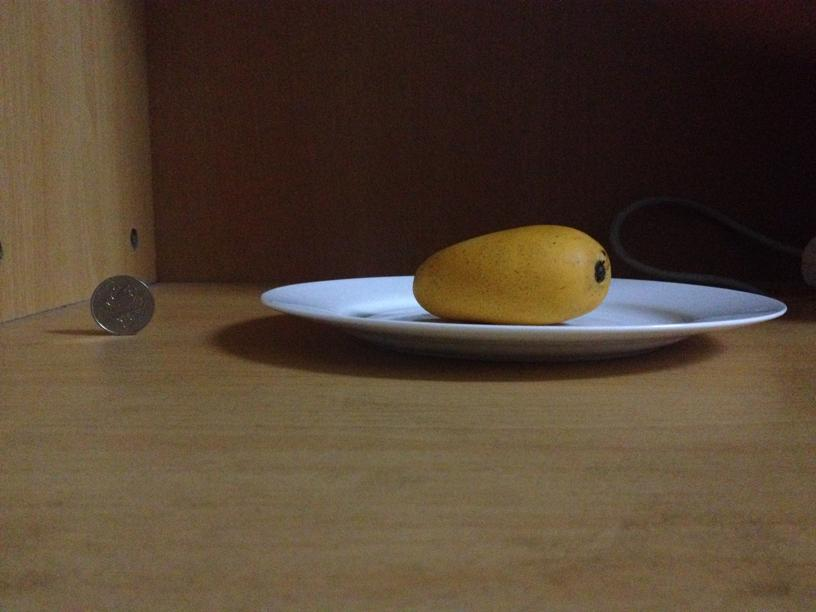coin: (89, 273, 156, 336)
mango: (413, 228, 611, 323)
